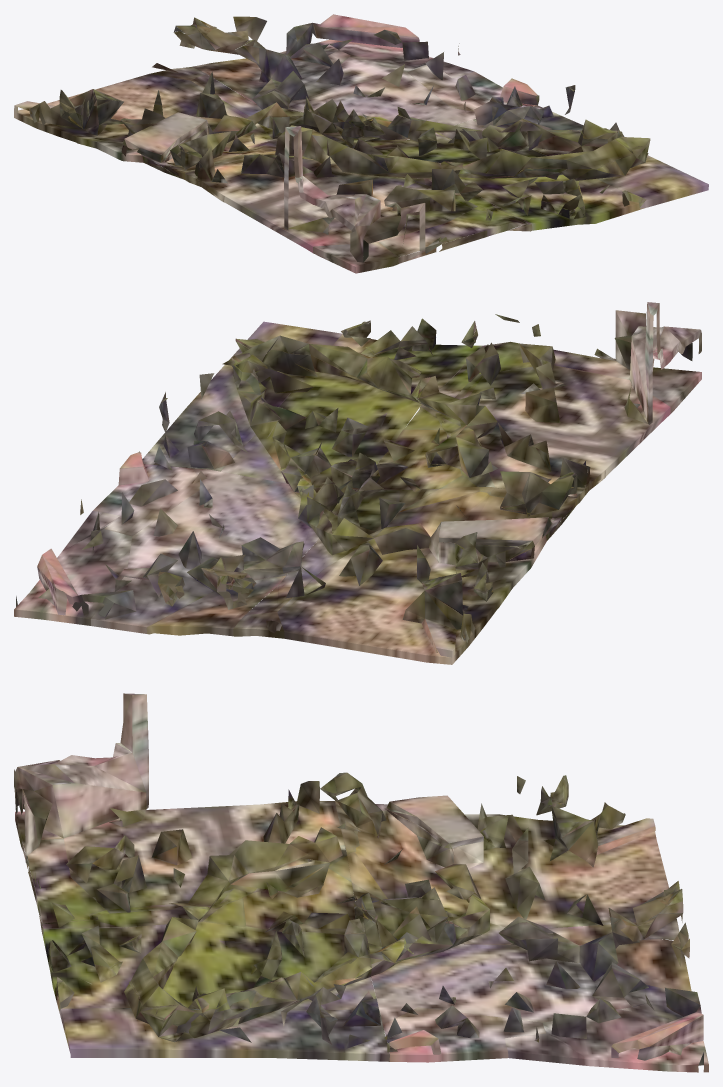
The picture shows the model from 3 angles, top to bottom: view 1: azimuth 30°, elevation 25°; view 2: azimuth 150°, elevation 25°; view 3: azimuth 270°, elevation 25°; orthographic projection. The views are drawn at different scales.
Parts seen in each view (by area): view 1: Mesh_0; view 2: Mesh_0; view 3: Mesh_0.
Part boxes in pixels (x1=…): Mesh_0: x1=14, y1=14, x2=708, y2=273; Mesh_0: x1=14, y1=302, x2=701, y2=664; Mesh_0: x1=14, y1=693, x2=708, y2=1072.
Size of the model in its own units: 266 by 105 by 330.
2 materials, 2 textured.
